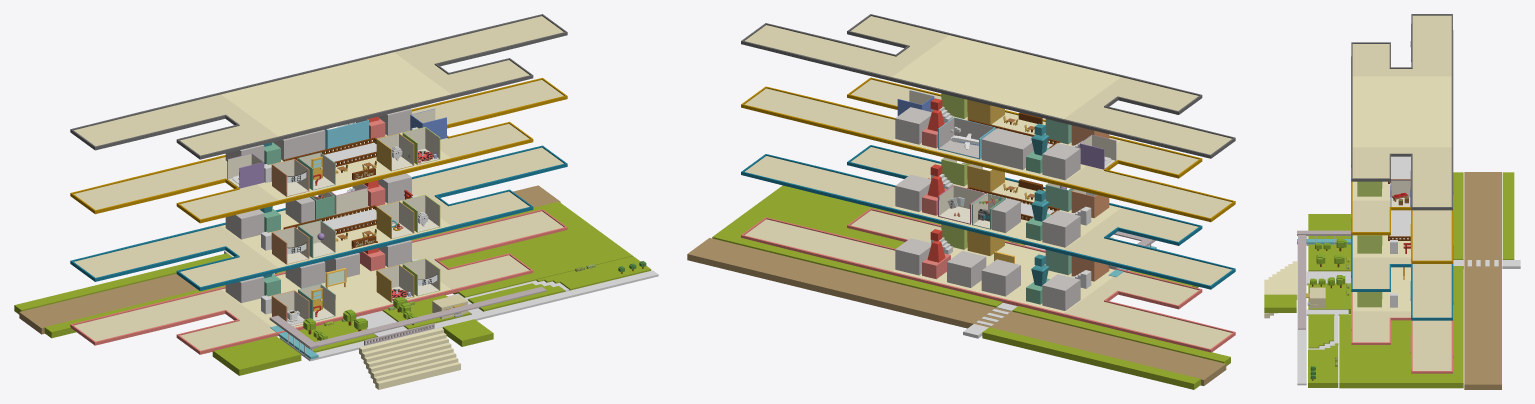
Rendered from souzou7.glb.
3 views of the same model, side by side, from view 1: azimuth 30°, elevation 25°; view 2: azimuth 150°, elevation 25°; view 3: azimuth 270°, elevation 25° (orthographic). The views are drawn at different scales.
Visible parts, largest first — view 1: ground, F4, F1, F2, F3, 3_3, 3_1, 2_3, 2_1, 1_3, 3_5, 1_1 (+21 smaller); view 2: ground, F4, F1, F2, F3, 3_11, 3_7, 2_6, 1_11, 3_10, 2_10, 1_10 (+25 smaller); view 3: ground, F4, F1, F2, F3, 3_6, invisible2, 2_4, invisible5, 1_4, 3_4, stand.
Part boxes in pixels (box(x1,y1,x2,y2)): ground: box(14, 185, 658, 389); F4: box(70, 14, 567, 159); F1: box(70, 209, 567, 354); F2: box(70, 145, 567, 290); F3: box(70, 78, 567, 223); 3_3: box(376, 133, 414, 171); 3_1: box(271, 159, 309, 196); 2_3: box(376, 201, 414, 238); 2_1: box(271, 226, 309, 264); 1_3: box(376, 264, 414, 302); 3_5: box(227, 153, 264, 188); 1_1: box(271, 290, 309, 326); ground: box(687, 185, 1230, 389); F4: box(741, 14, 1235, 158); F1: box(741, 208, 1235, 352); F2: box(741, 145, 1235, 289); F3: box(741, 77, 1235, 222); 3_11: box(981, 128, 1033, 169); 3_7: box(938, 117, 995, 159); 2_6: box(938, 185, 985, 224); 1_11: box(981, 259, 1020, 296); 3_10: box(1042, 143, 1080, 180); 2_10: box(1042, 210, 1080, 247); 1_10: box(1042, 274, 1080, 310); ground: box(1264, 172, 1520, 389); F4: box(1351, 14, 1453, 210); F1: box(1351, 267, 1453, 373); F2: box(1351, 221, 1453, 320); F3: box(1351, 168, 1453, 263); 3_6: box(1390, 180, 1410, 206); invisible2: box(1390, 210, 1410, 239); 2_4: box(1357, 235, 1382, 253); invisible5: box(1391, 156, 1410, 179); 1_4: box(1357, 292, 1382, 307); 3_4: box(1357, 181, 1382, 196); stand: box(1306, 287, 1325, 308).
Size of the model in its own units: 176 by 73.39 by 89.51.
